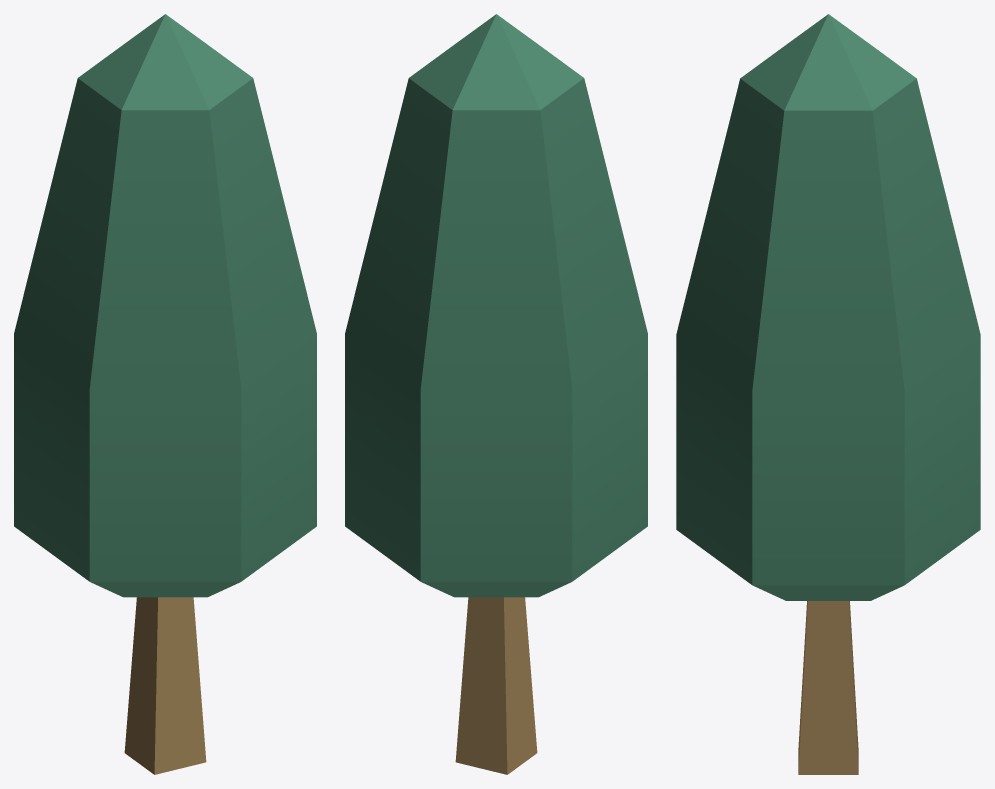
Rendered from Oak_Green_01.obj.
3 renders of one model, left to right at view 1: azimuth 30°, elevation 25°; view 2: azimuth 150°, elevation 25°; view 3: azimuth 270°, elevation 25°, orthographic.
Parts seen in each view (by area): view 1: Mesh1_Oak_Green_Model; view 2: Mesh1_Oak_Green_Model; view 3: Mesh1_Oak_Green_Model.
Part boxes in pixels (x1,y1,x2,y2): Mesh1_Oak_Green_Model: (14, 14, 316, 774); Mesh1_Oak_Green_Model: (345, 14, 647, 774); Mesh1_Oak_Green_Model: (676, 14, 980, 774).
Size of the model in its own units: 1.58 by 4.93 by 1.82.
